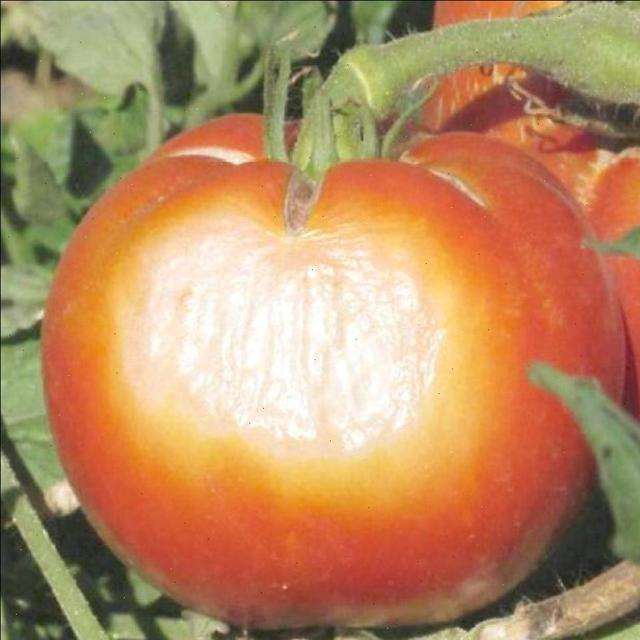Sunscald Fruit: (92, 138, 318, 328)
